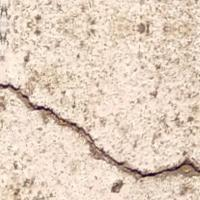crack: (0, 67, 199, 199)
